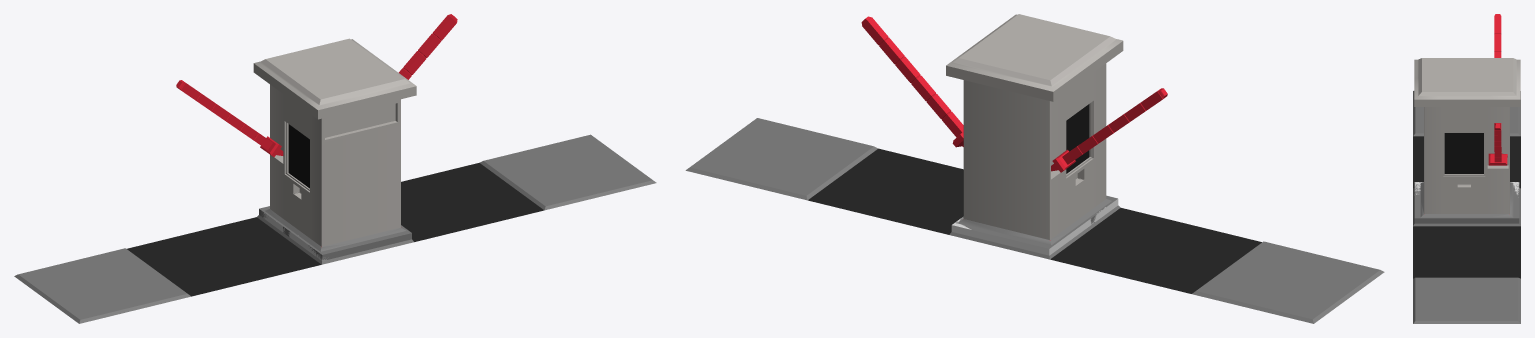
The model's file is maingate_open.fbx.
3 views of the same model, side by side, from view 1: azimuth 30°, elevation 25°; view 2: azimuth 150°, elevation 25°; view 3: azimuth 270°, elevation 25° (orthographic). The views are drawn at different scales.
Parts seen in each view (by area): view 1: Cube.001; view 2: Cube.001, Cube; view 3: Cube.001, Cube.
Boxes of the visible parts, <box> form: Cube.001: <box>14,14,656,323</box>; Cube.001: <box>685,14,1384,323</box>; Cube: <box>951,199,1118,255</box>; Cube.001: <box>1413,14,1520,323</box>; Cube: <box>1414,182,1519,194</box>.
Size of the model in its own units: 1286 by 357 by 251.
